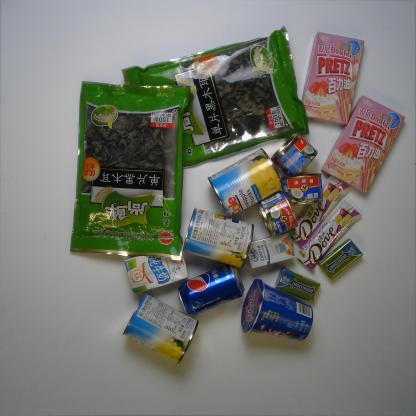Canned Food: (122, 291, 200, 365), (206, 147, 284, 219), (181, 207, 254, 271), (270, 132, 319, 176), (256, 190, 299, 237), (280, 172, 324, 206)
Chocolate: (295, 199, 363, 272), (289, 175, 352, 249)
Dessert: (320, 94, 406, 196), (300, 31, 366, 126), (240, 278, 314, 342)
Dried Food: (119, 24, 312, 174), (68, 77, 187, 262)
Drink: (180, 267, 242, 314)
Gum: (317, 238, 363, 280), (273, 268, 321, 303)
Milk: (124, 251, 188, 295), (246, 230, 296, 271)
